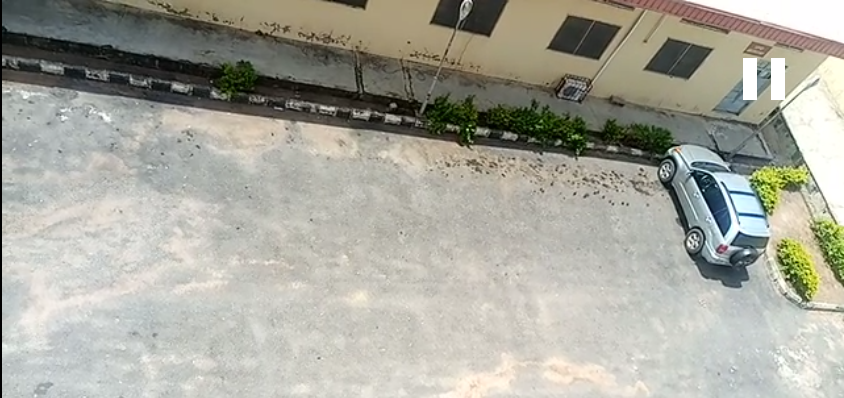four: (484, 107, 591, 291)
one: (1, 35, 96, 272)
three: (308, 86, 434, 289)
two: (129, 55, 268, 284)
